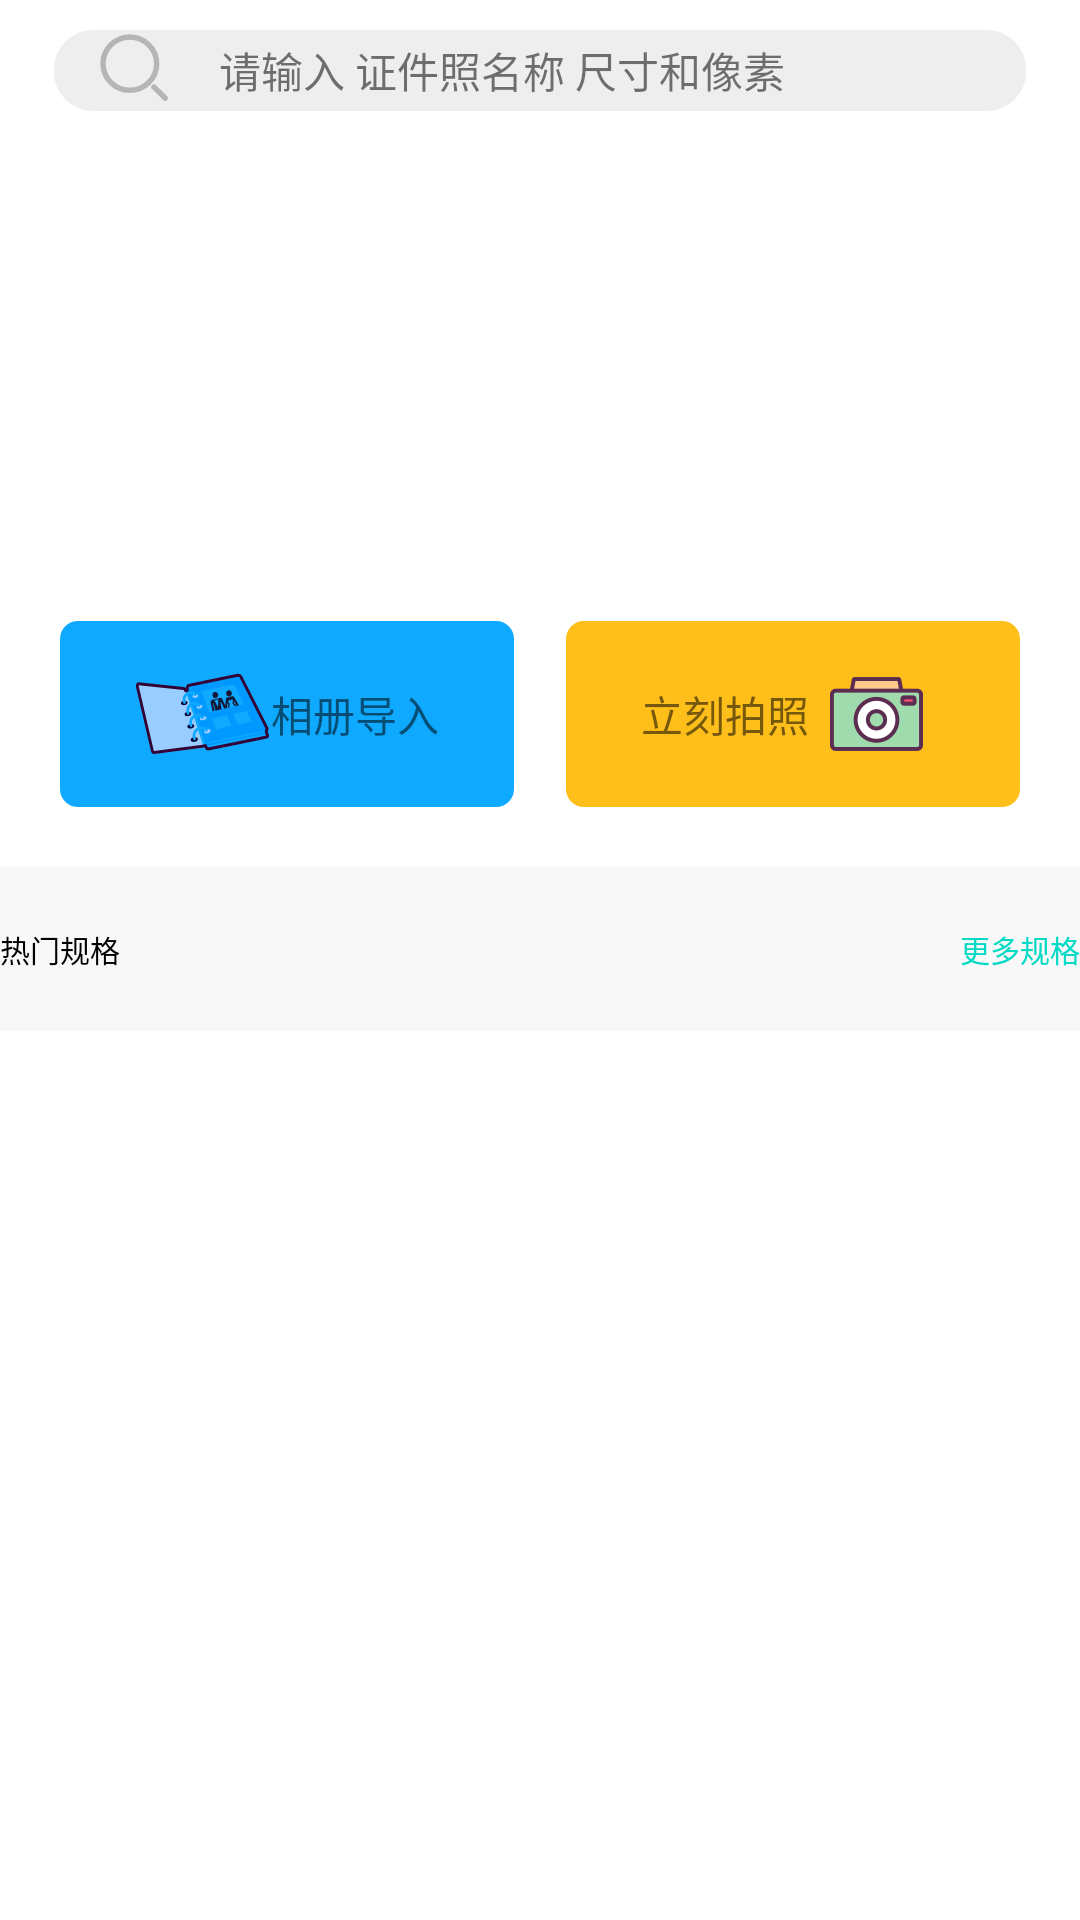

Named icons in this screenshot (1080×1920) and their bounding boxes, (x1, y1, x2, y2):
search more: (100, 34, 168, 101)
